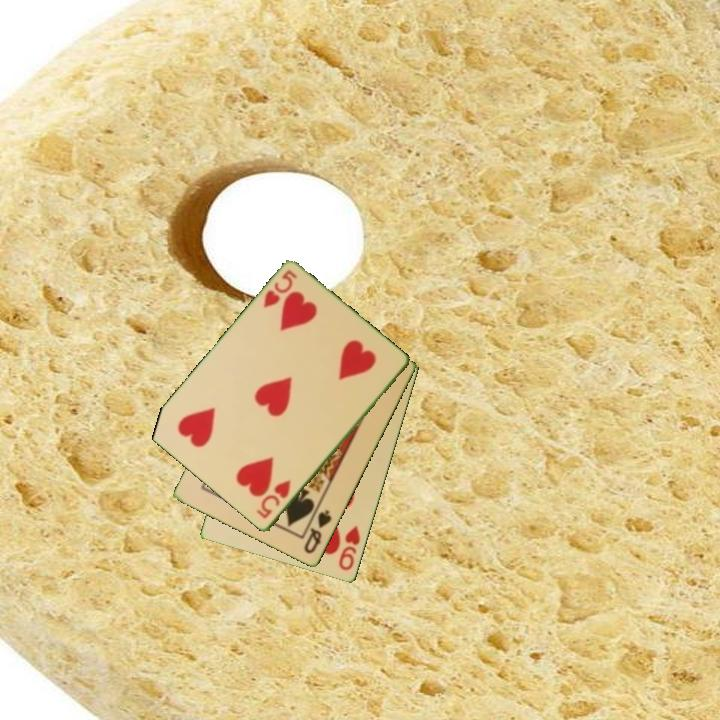5h: (253, 477, 294, 522), (260, 266, 300, 311)
9h: (335, 522, 363, 574)
Qs: (301, 506, 335, 557)
